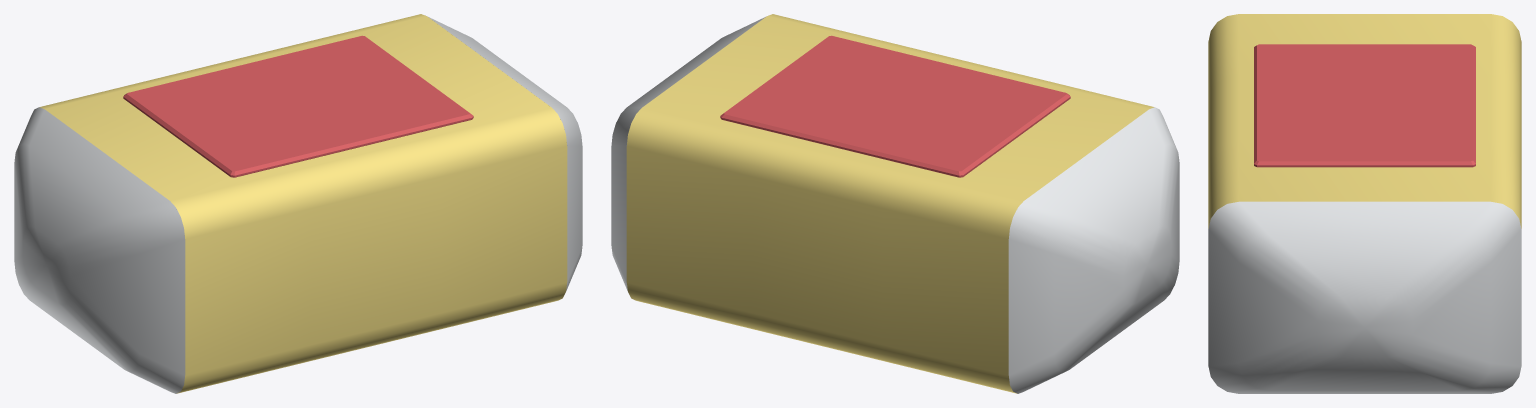
The model's file is fresh-produce-and-groceries-butter-block-0790df28__24395.glb.
The picture shows the model from 3 angles, left to right: view 1: azimuth 30°, elevation 25°; view 2: azimuth 150°, elevation 25°; view 3: azimuth 270°, elevation 25°; orthographic projection.
Parts seen in each view (by area): view 1: butter-block; view 2: butter-block; view 3: butter-block.
Boxes of the visible parts, x1,y1,x2,y2 form: butter-block: [14, 14, 582, 393]; butter-block: [611, 14, 1179, 393]; butter-block: [1208, 14, 1521, 393].
Bounding box in the file's own units: 0.116 × 0.0431 × 0.062.
